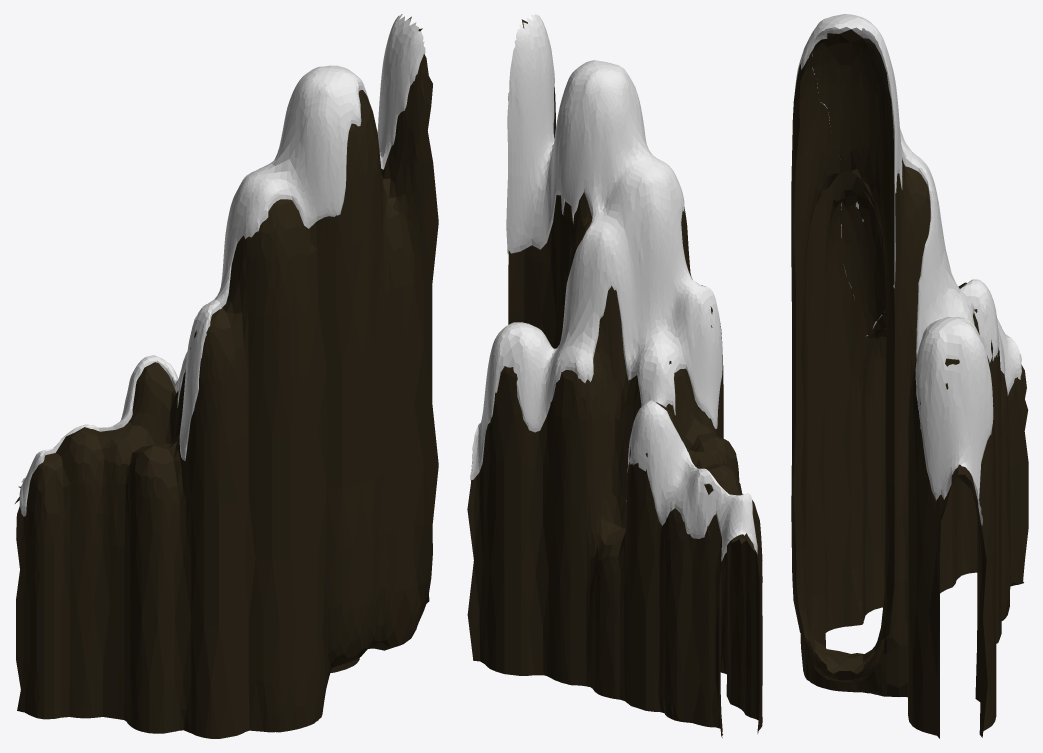
Rendered from Mtn_Wall_E0.fbx.
The picture shows the model from 3 angles, left to right: view 1: azimuth 30°, elevation 25°; view 2: azimuth 150°, elevation 25°; view 3: azimuth 270°, elevation 25°; orthographic projection. The views are drawn at different scales.
Parts seen in each view (by area): view 1: Mtn_Wall_E0; view 2: Mtn_Wall_E0; view 3: Mtn_Wall_E0.
Boxes of the visible parts, x1,y1,x2,y2 form: Mtn_Wall_E0: [15, 14, 438, 738]; Mtn_Wall_E0: [467, 14, 762, 737]; Mtn_Wall_E0: [791, 14, 1028, 738].
Bounding box in the file's own units: 18819 × 36180 × 10909.
